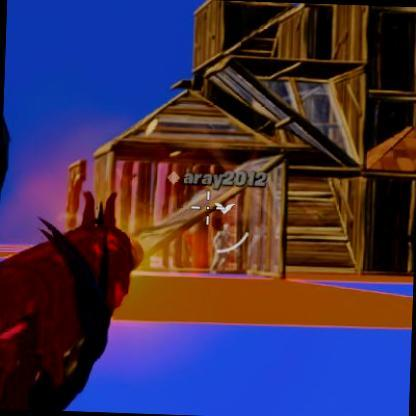person: (214, 221, 238, 272)
